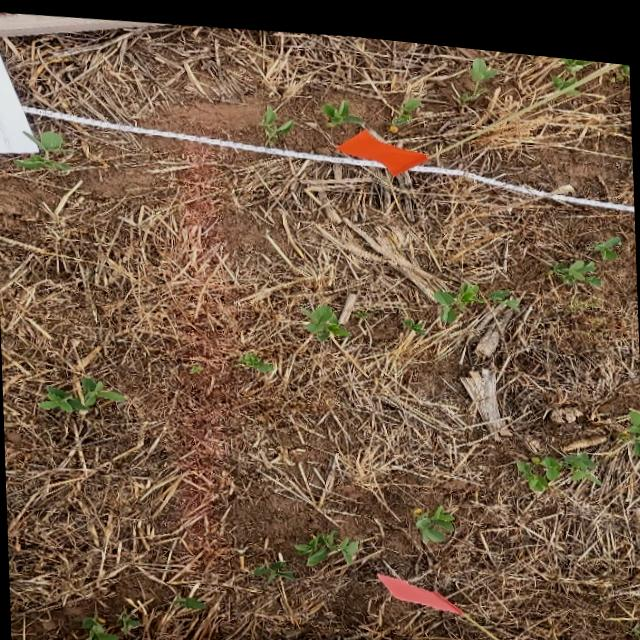soy_plant: (434, 270, 519, 312), (516, 439, 600, 479), (39, 374, 125, 409), (82, 595, 143, 640), (14, 129, 72, 168), (296, 523, 358, 558), (301, 297, 349, 332), (548, 245, 600, 273), (416, 494, 453, 530), (253, 546, 296, 574), (320, 91, 364, 118), (260, 99, 293, 134), (391, 86, 421, 122), (174, 577, 207, 606), (468, 46, 498, 71), (623, 396, 640, 440), (239, 347, 272, 365), (567, 626, 609, 640), (594, 222, 619, 245), (559, 46, 589, 61), (552, 62, 575, 76)
